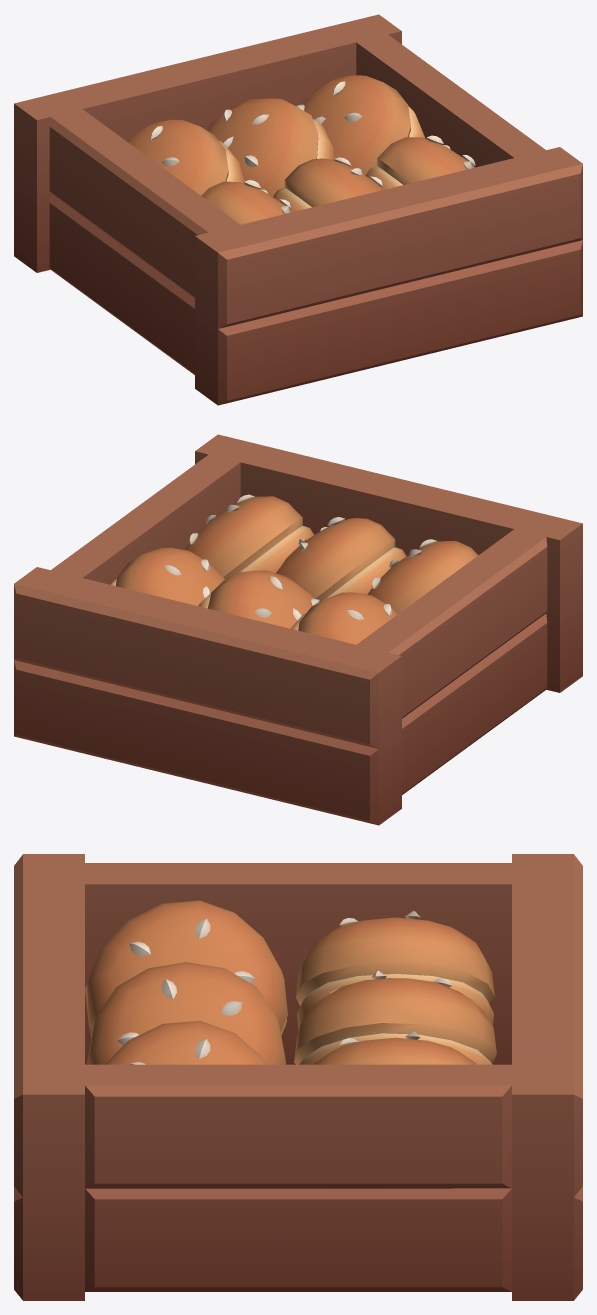
File: kaykit-restaurant-bits-crate-buns.glb
3 views of the same model, one above another, from view 1: azimuth 30°, elevation 25°; view 2: azimuth 150°, elevation 25°; view 3: azimuth 270°, elevation 25° (orthographic). The views are drawn at different scales.
Visible parts, largest first — view 1: crate_buns; view 2: crate_buns; view 3: crate_buns.
Boxes of the visible parts, box(x1,y1,x2,y2) form: crate_buns: box(14, 14, 582, 405); crate_buns: box(14, 434, 582, 825); crate_buns: box(14, 854, 582, 1300).
Size of the model in its own units: 2 by 0.8023 by 2.
Materials: 1 (1 with a texture image).
